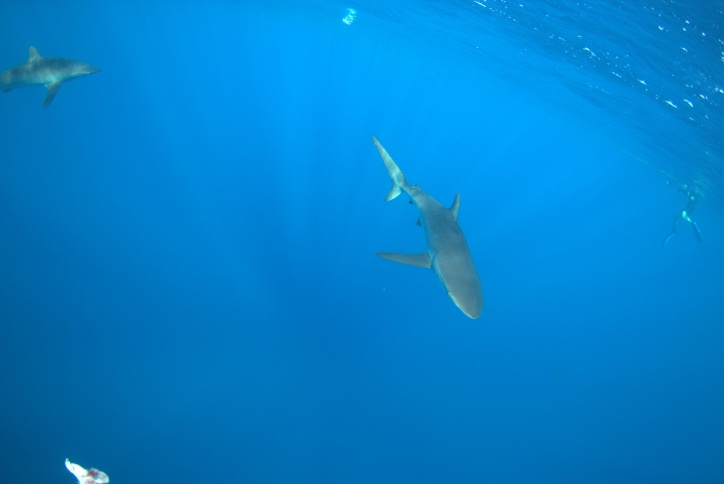Sedoso: (329, 112, 500, 323)
